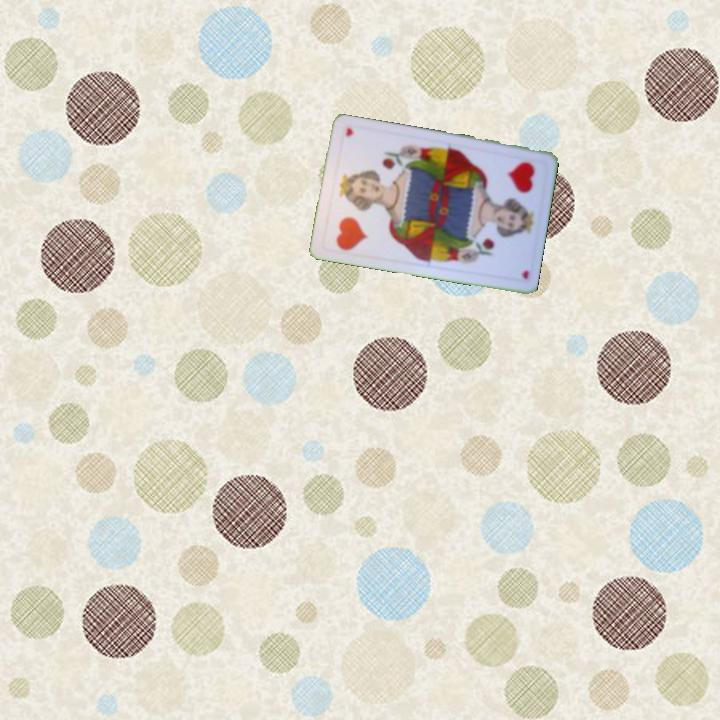h_q.png: (319, 184, 387, 259), (481, 149, 548, 224)
